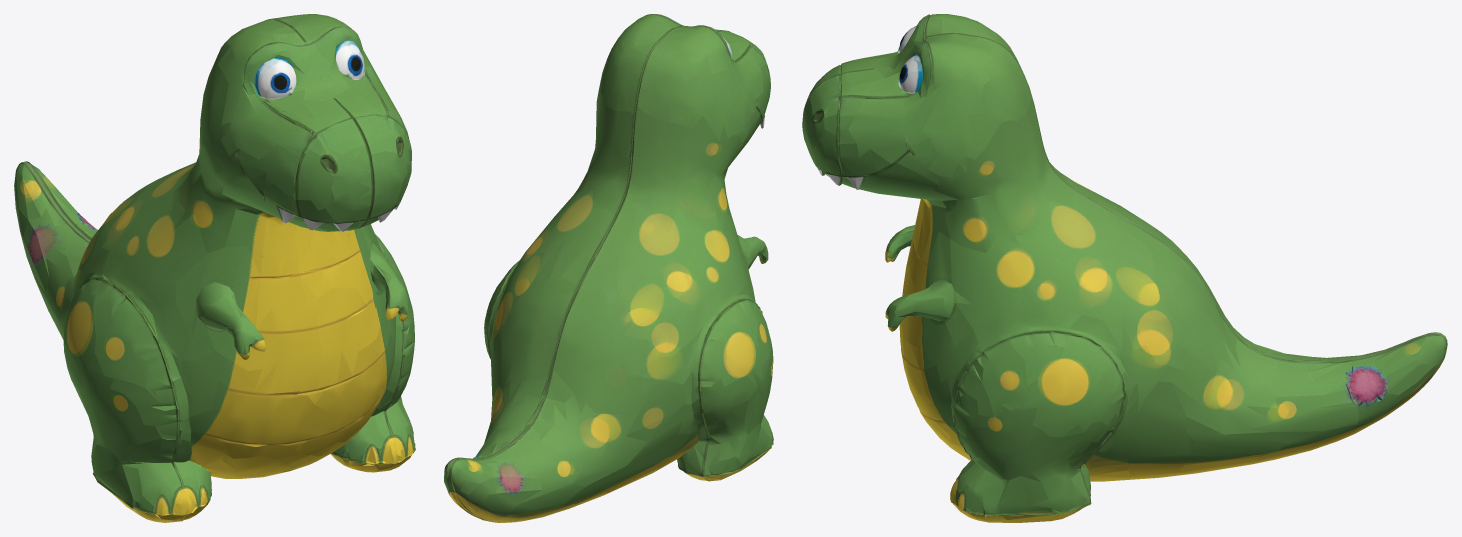
Rendered from inflatable_dino.glb.
3 renders of one model, left to right at view 1: azimuth 30°, elevation 25°; view 2: azimuth 150°, elevation 25°; view 3: azimuth 270°, elevation 25°, orthographic. The views are drawn at different scales.
Size of the model in its own units: 0.9732 by 1.42 by 1.9.
1 material, 1 textured.
